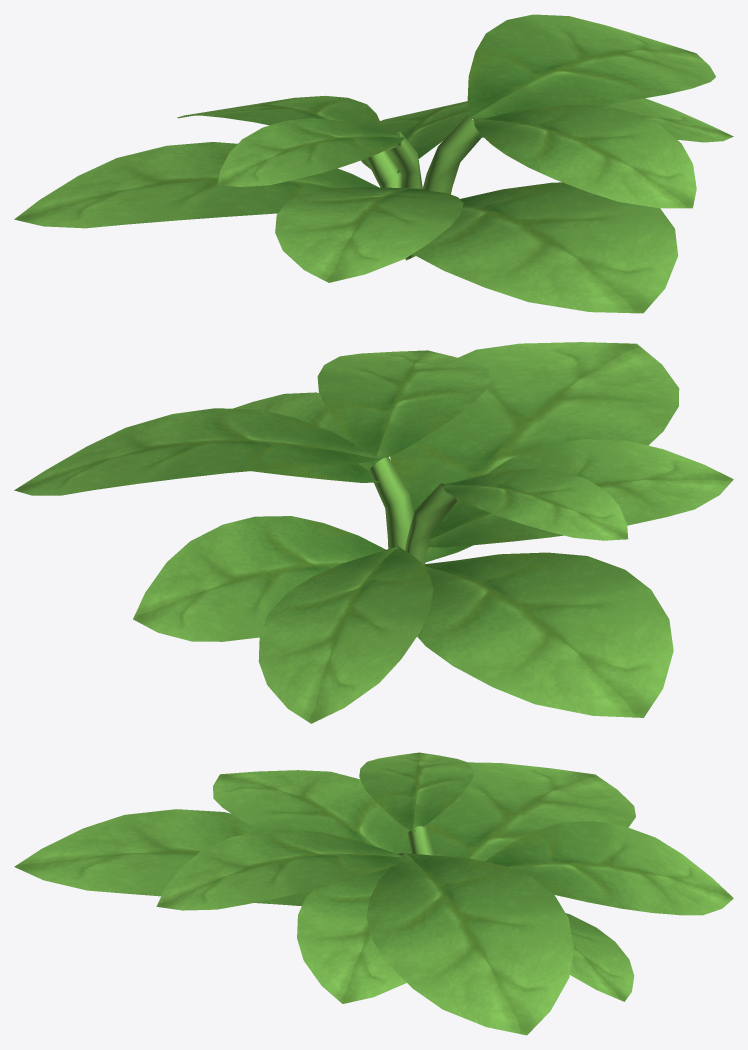
Rendered from blueberry Leaves.fbx.
3 renders of one model, top to bottom at view 1: azimuth 30°, elevation 25°; view 2: azimuth 150°, elevation 25°; view 3: azimuth 270°, elevation 25°, orthographic. The views are drawn at different scales.
Visible parts, largest first — view 1: Blueberry_3; view 2: Blueberry_3; view 3: Blueberry_3.
Part boxes in pixels (x1,y1,x2,y2): Blueberry_3: (14,14,733,313); Blueberry_3: (14,342,733,723); Blueberry_3: (14,752,733,1035).
Size of the model in its own units: 85.01 by 19.43 by 87.92.
